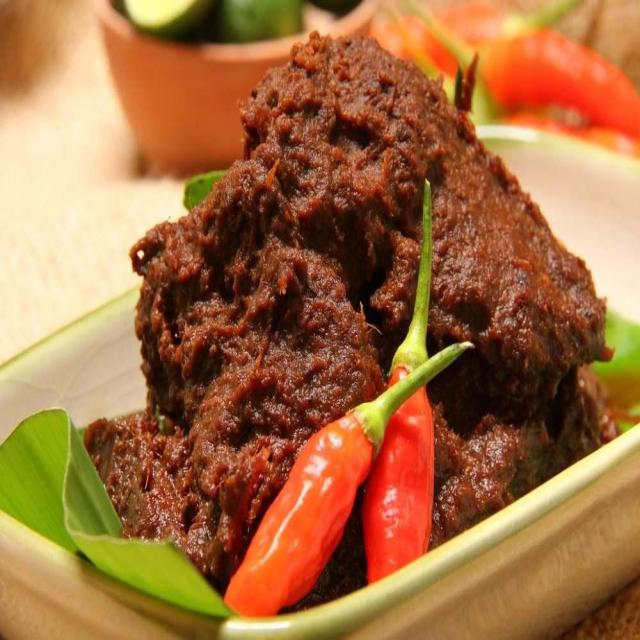Rendang: (55, 35, 618, 588)
